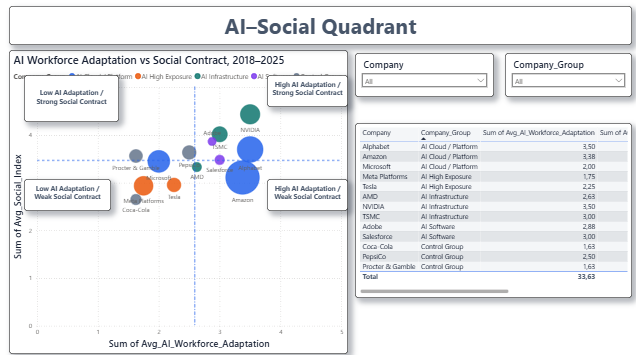

The page's visual inventory and layout, read from the dashboard file:
{"tool":"powerbi","page":{"name":"AI–Social Quadrant","canvas":[1280,720],"ordinal":4},"visuals":[{"type":"scatterChart","title":"AI Workforce Adaptation vs Social Contract, 2018–2025","fields":{"Category":["vw_company_summary.Company"],"Series":["vw_company_summary.Company_Group"],"Size":["Sum(vw_company_summary.Revenue_2025)"],"X":["Sum(vw_company_summary.Avg_AI_Workforce_Adaptation)"],"Y":["Sum(vw_company_summary.Avg_Social_Index)"]},"box":[18,102,678,608],"z":0},{"type":"textbox","box":[534,152,162,64],"z":1000},{"type":"textbox","box":[48,152,190,94],"z":2000},{"type":"textbox","box":[534,360,162,64],"z":3000},{"type":"textbox","box":[48,360,174,64],"z":4000},{"type":"tableEx","fields":{"Values":["vw_company_summary.Company","vw_company_summary.Company_Group","Sum(vw_company_summary.Avg_AI_Workforce_Adaptation)","Sum(vw_company_summary.Avg_Social_Index)","Sum(vw_company_summary.Avg_ROIC)","Sum(vw_company_summary.Revenue_CAGR_2018_2025)"]},"box":[710,248,554,350],"z":5000},{"type":"slicer","fields":{"Values":["vw_company_summary.Company"]},"box":[710,108,278,88],"z":6000},{"type":"slicer","fields":{"Values":["vw_company_summary.Company_Group"]},"box":[1010,108,254,88],"z":7000},{"type":"textbox","box":[18,14,1246,78],"z":8000}]}

Visuals, with their boxes in screenshot pixels (x1, y1, x2, y2), scaled from the page's 1280x720 canvas onto the 636x355 screenshot:
"AI Workforce Adaptation vs Social Contract, 2018–2025" scatterChart: 9/50/346/350
textbox: 265/75/346/106
textbox: 24/75/118/121
textbox: 265/178/346/209
textbox: 24/178/110/209
tableEx - vw_company_summary.Company x vw_company_summary.Company_Group: 353/122/628/295
slicer - vw_company_summary.Company: 353/53/491/97
slicer - vw_company_summary.Company_Group: 502/53/628/97
textbox: 9/7/628/45
